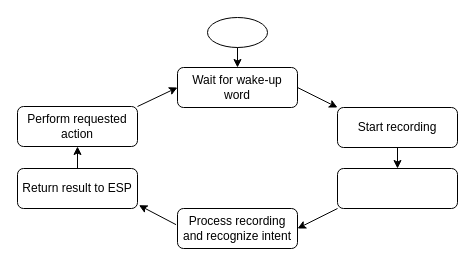
Some shapes in this 475 by 266 pixel diagram are drawn without their labels. The shapes that lost their labels are listed below. From the top down, each one's centre as x and y in pixels, then its label:
At [237,32]: "Start".
At [397,188]: "Send audio to the server".
